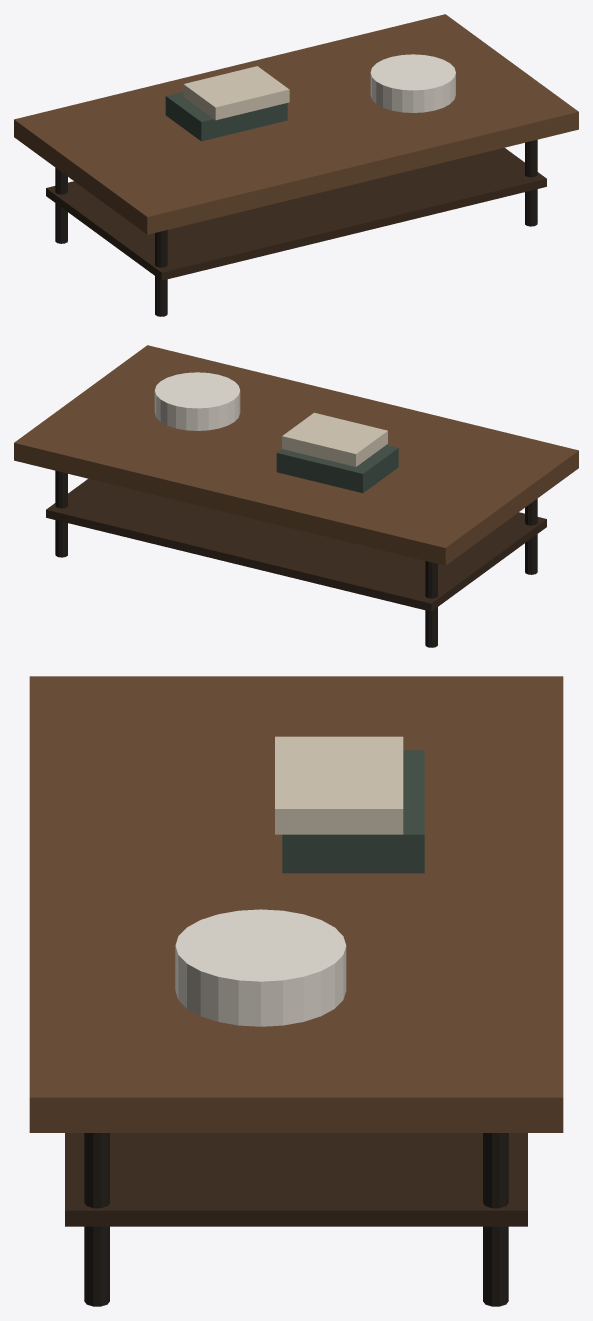
The picture shows the model from 3 angles, top to bottom: view 1: azimuth 30°, elevation 25°; view 2: azimuth 150°, elevation 25°; view 3: azimuth 270°, elevation 25°; orthographic projection. The views are drawn at different scales.
Visible parts, largest first — view 1: coffee-table; view 2: coffee-table; view 3: coffee-table.
Part boxes in pixels (x1,y1,x2,y2): coffee-table: (14,14,578,316); coffee-table: (14,345,578,647); coffee-table: (29,676,563,1306).
Size of the model in its own units: 1.4 by 0.465 by 0.75.
